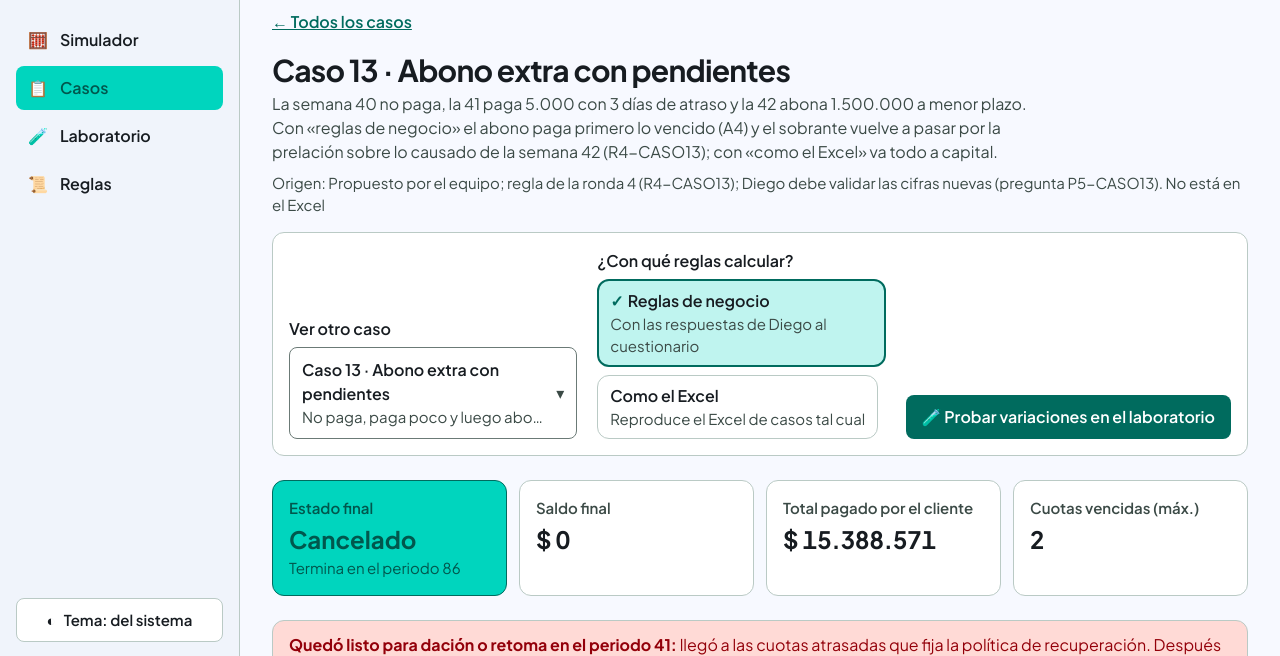
Test case: Laboratorio › desde el caso 13 trae sus eventos y al cambiarlos lo dice
Click the button "🧪 Probar variaciones en el laboratorio".
click(1068, 417)  # box [906, 395, 1231, 439]
(page scrolled)
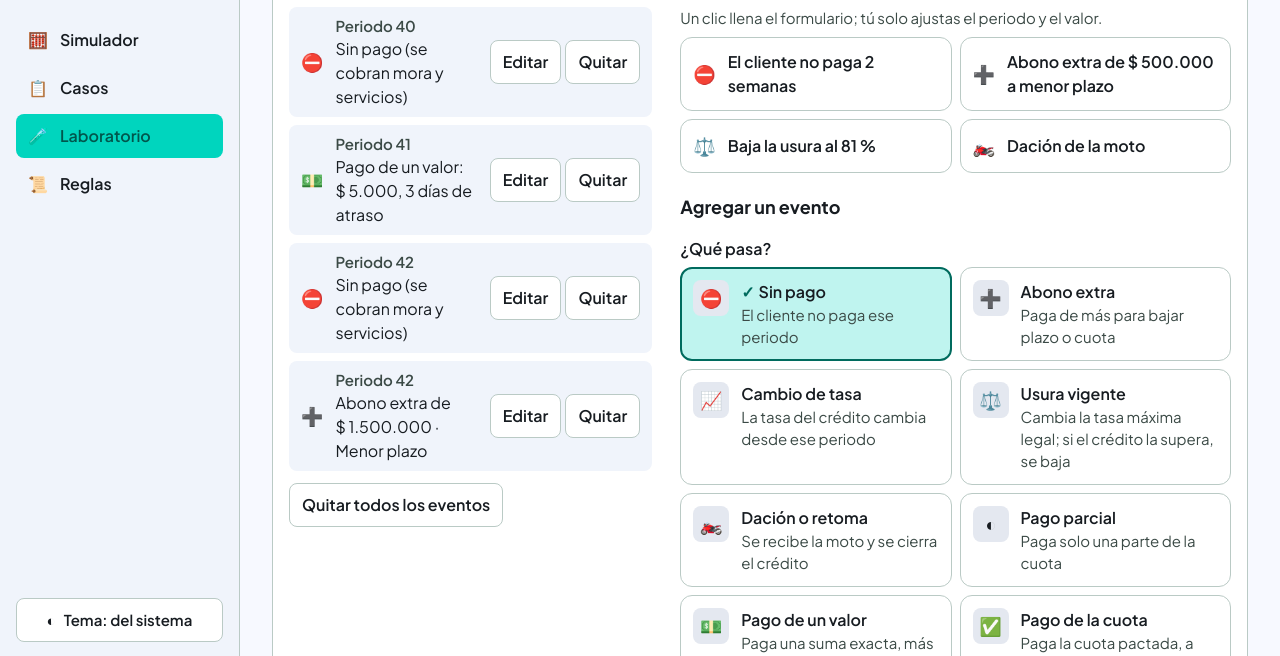
Result: the button with aria-label "Editar el evento del periodo 42" is shown at [490, 276, 561, 320]
Click the button with aria-label "Quitar el evento del periodo 42".
click(603, 298)  # box [565, 276, 640, 320]
(page scrolled)
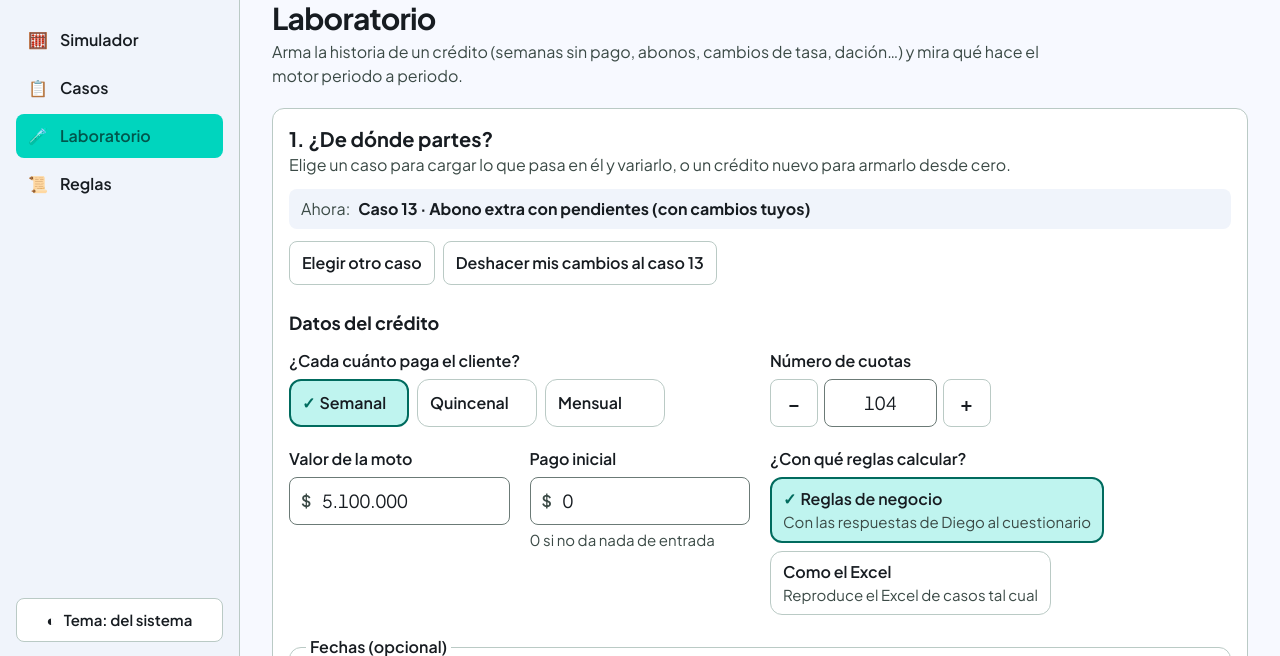
Result: the text "Caso 13 · Abono extra con pendientes (con cambios tuyos)" is shown at [358, 197, 810, 221]
